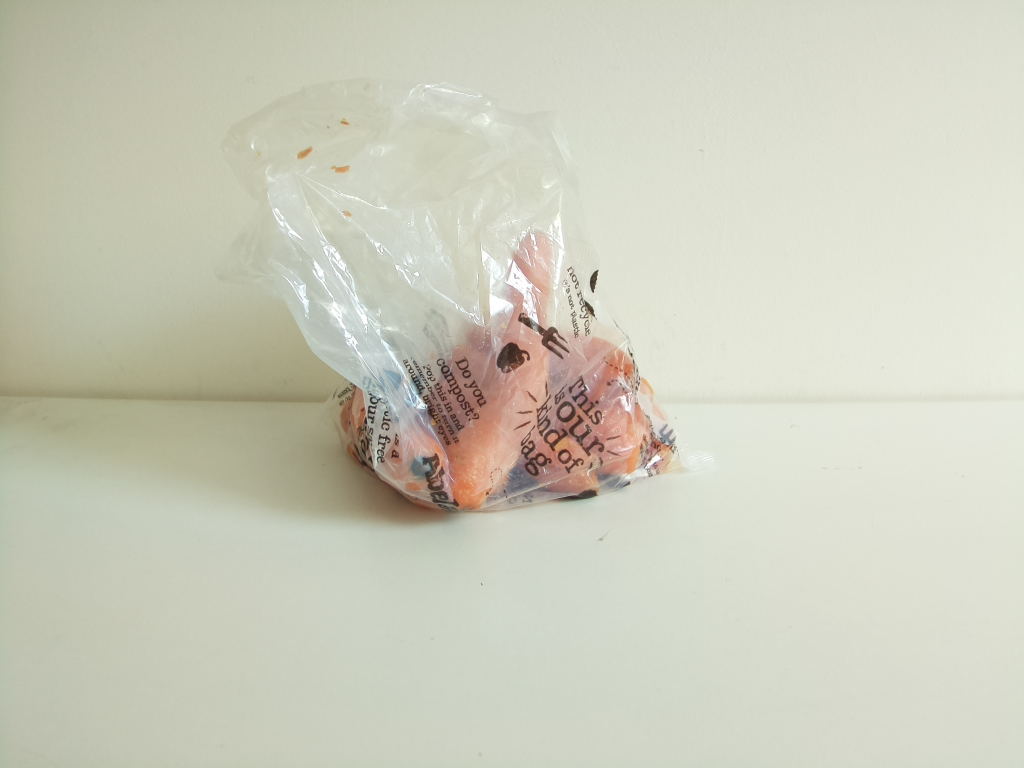carrot: (338, 224, 675, 514)
